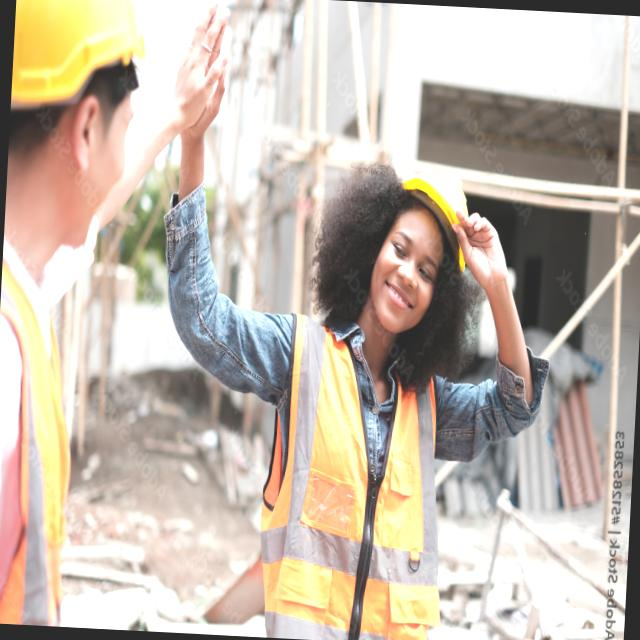helmet: (10, 0, 153, 130), (388, 154, 502, 274)
no-goggles: (365, 232, 444, 302)
vest: (253, 309, 456, 640), (0, 247, 88, 627)
